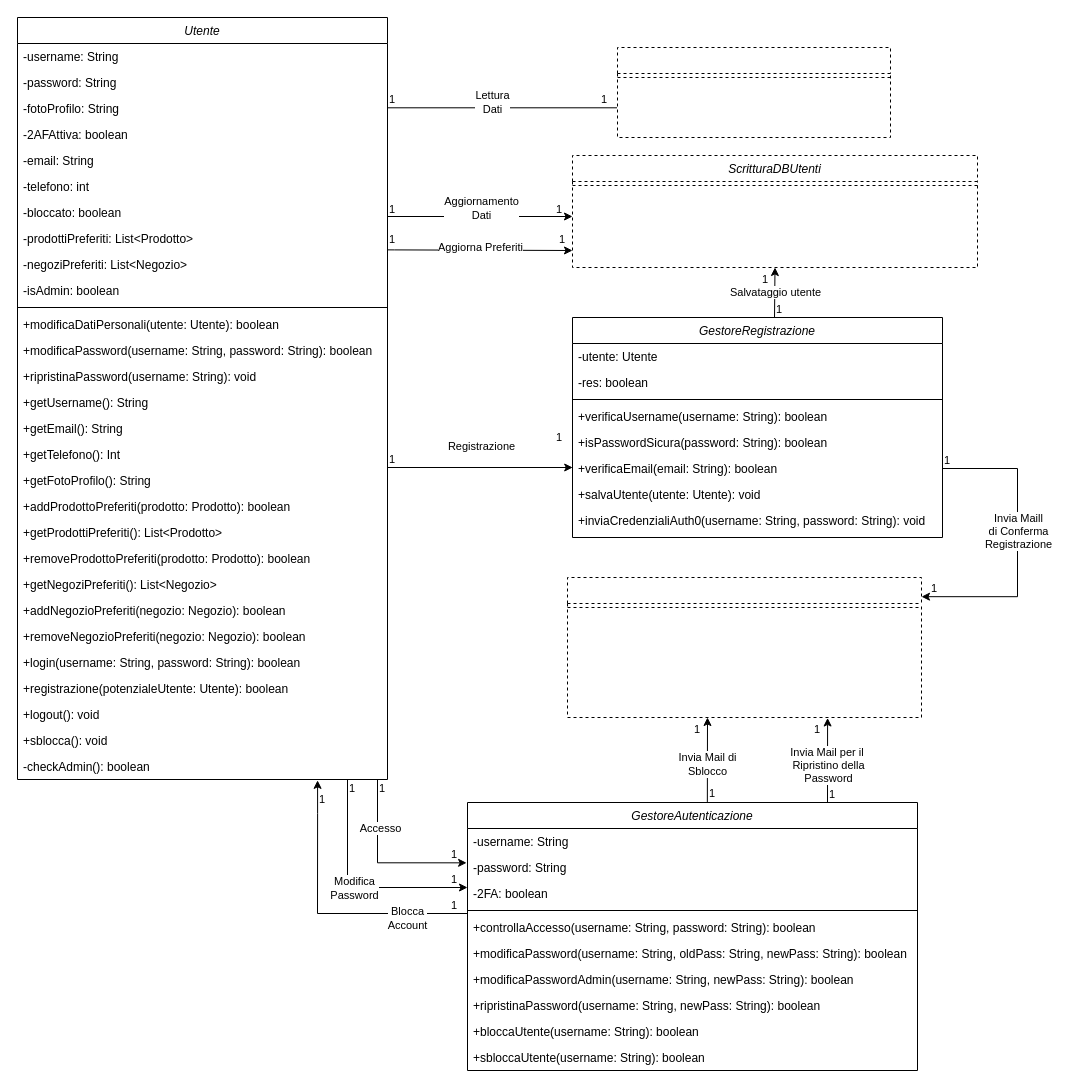
Image size: 1069x1091. Some labels were removed from this diagram. The shapes that lost their labels are listed below. From the top down, each one's centre as x and y in pixels, then its label:
At (753,92): "LetturaDBUtenti".
At (744,647): "InterfacciaGmail".
